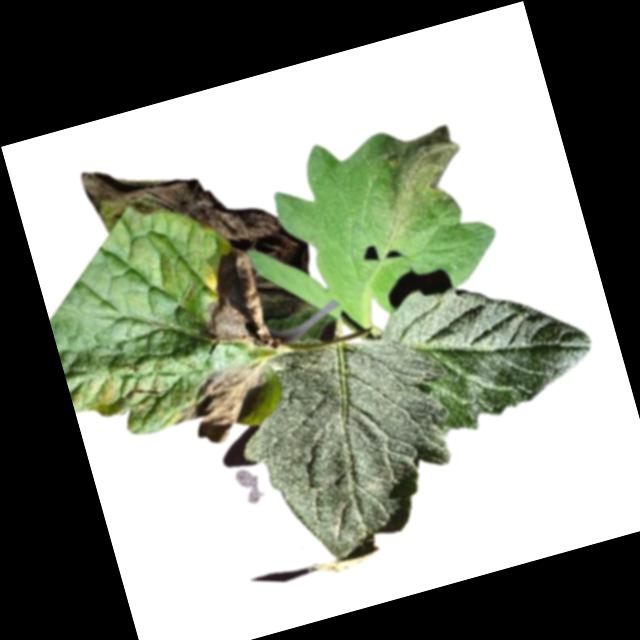Late_blight: (81, 117, 316, 327), (181, 232, 283, 367), (163, 354, 283, 454), (364, 120, 476, 225), (247, 253, 314, 325)
healthy: (218, 302, 484, 576), (373, 245, 606, 448)
